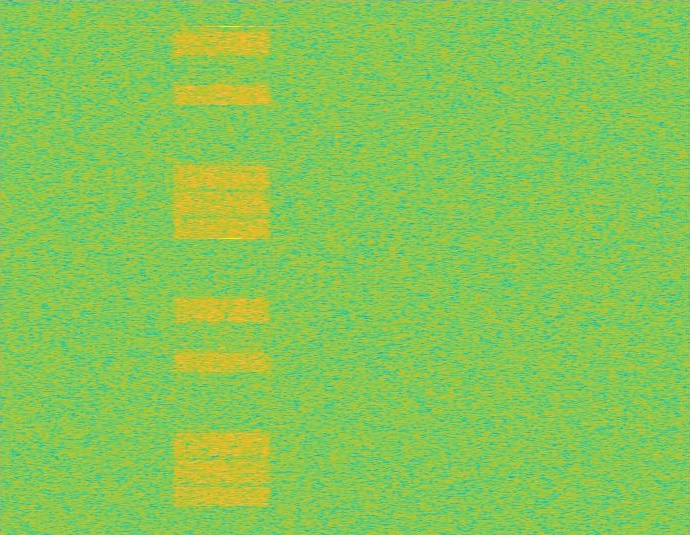LTE: (170, 0, 274, 534)
Radar: (224, 0, 237, 534)
